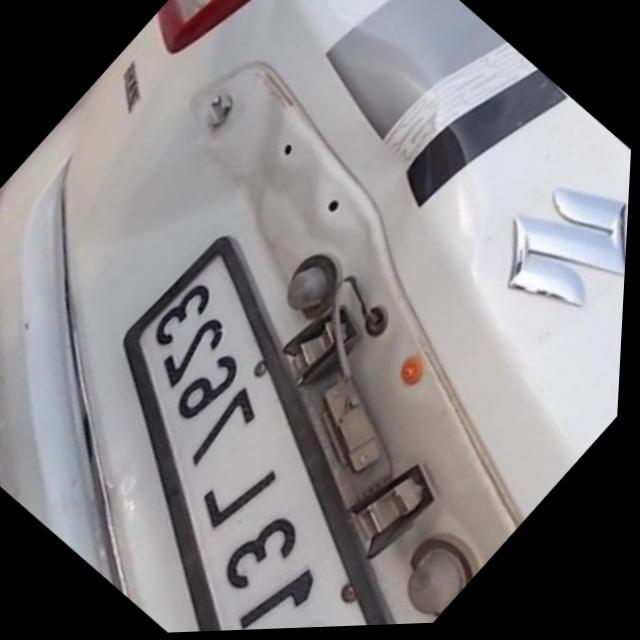dent: (247, 31, 482, 290)
